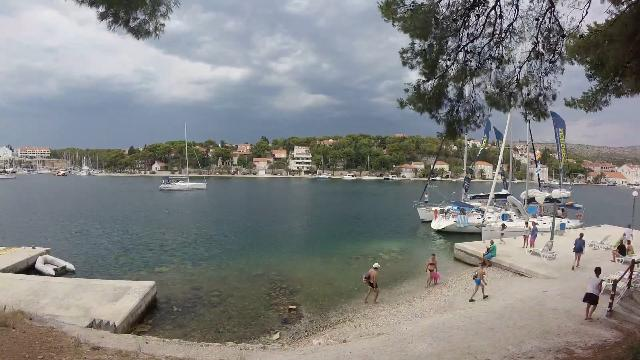Sailboat: (156, 172, 214, 195)
